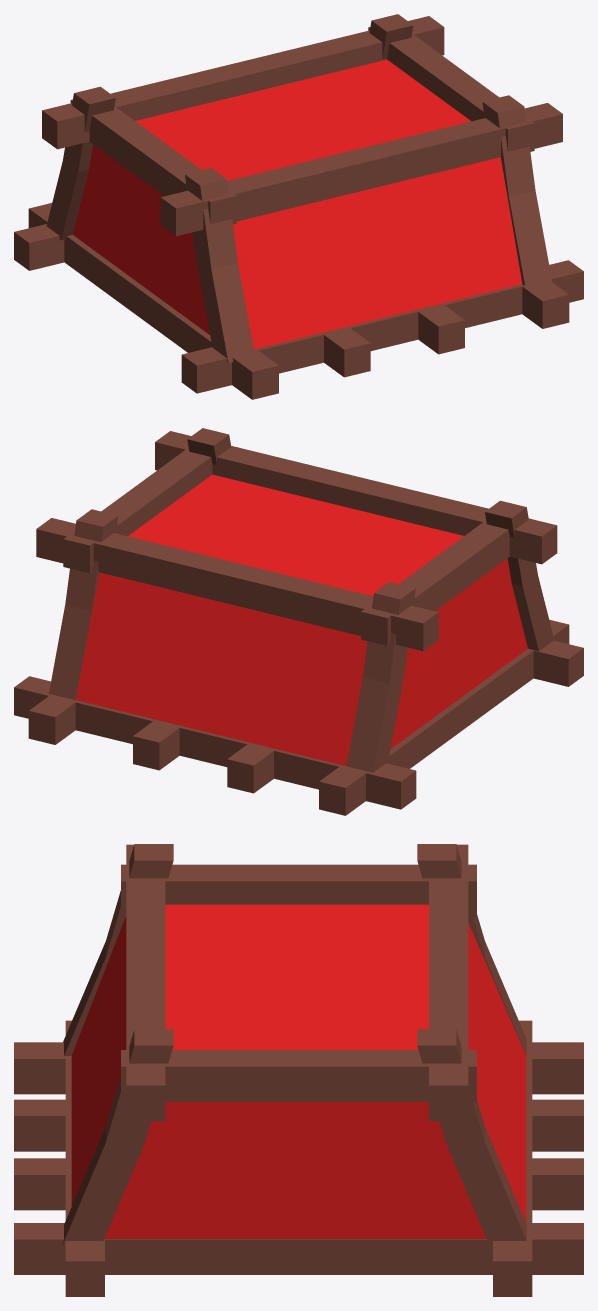
The model's file is OldTown_Roof3_gltf.gltf.
3 views of the same model, one above another, from view 1: azimuth 30°, elevation 25°; view 2: azimuth 150°, elevation 25°; view 3: azimuth 270°, elevation 25° (orthographic). The views are drawn at different scales.
Visible parts, largest first — view 1: housesupportbeams (×14), cuboid; view 2: housesupportbeams (×14), cuboid; view 3: housesupportbeams (×14), cuboid.
Boxes of the visible parts, x1,y1,x2,y2 form: housesupportbeams (×14): (14, 14, 583, 399); cuboid: (72, 59, 522, 349); housesupportbeams (×14): (14, 428, 583, 815); cuboid: (75, 474, 527, 765); housesupportbeams (×14): (14, 844, 583, 1296); cuboid: (71, 904, 526, 1238).
Bounding box in the file's own units: 10.07 × 4.47 × 10.
Materials: 2 (2 with a texture image).
